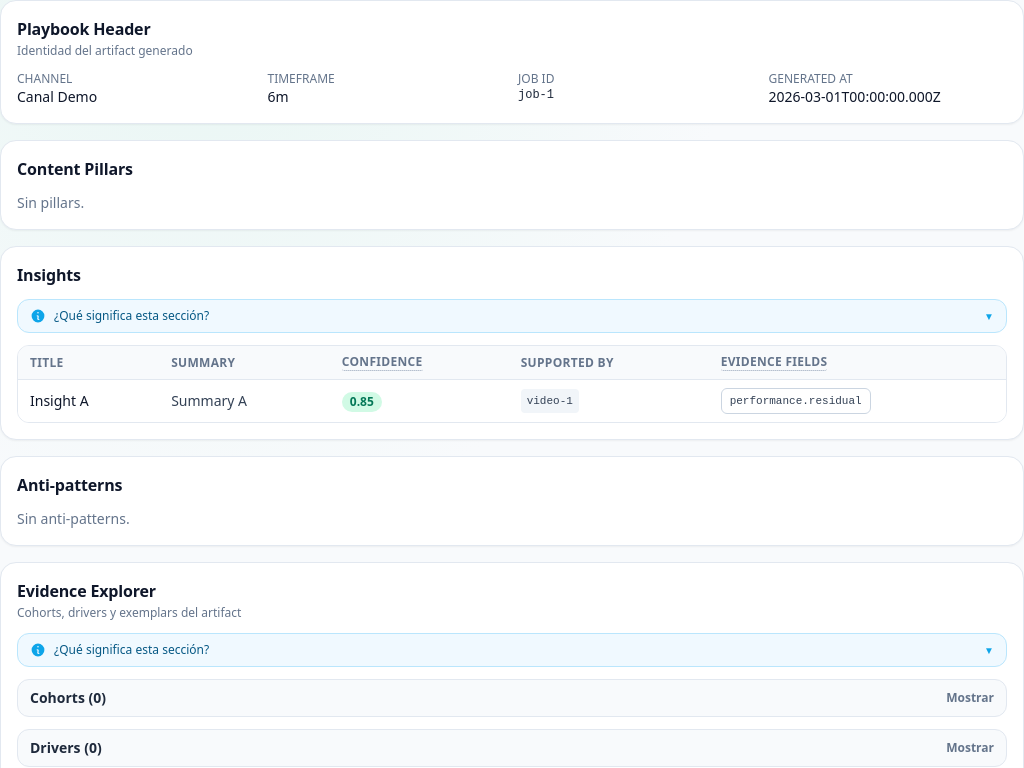
Test: PlaybookView › renders insights table and shows tooltips on interaction
Check: the heading "Insights" is shown, box [17,263,81,287]
Check: the text "Insight A" is shown, box [18,380,159,422]
Focus the text "Confidence". click: (382, 362)
box: [342,354,422,371]
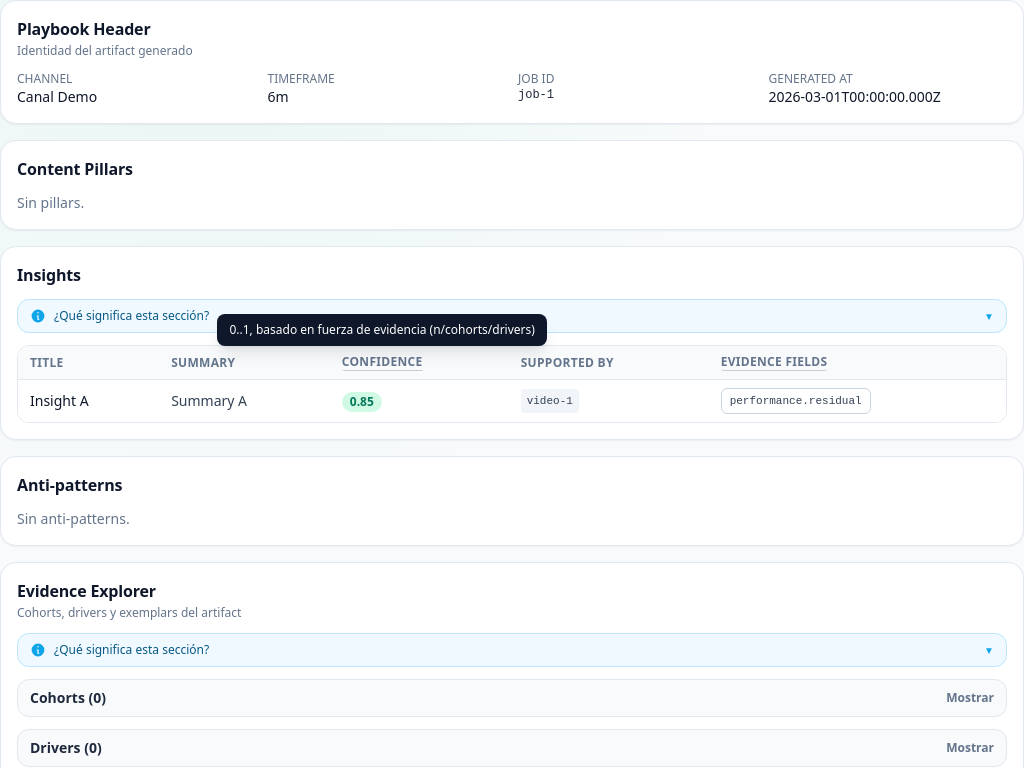
Check: the tooltip shows "0..1, basado en fuerza de evidencia", box [229,321,535,338]
